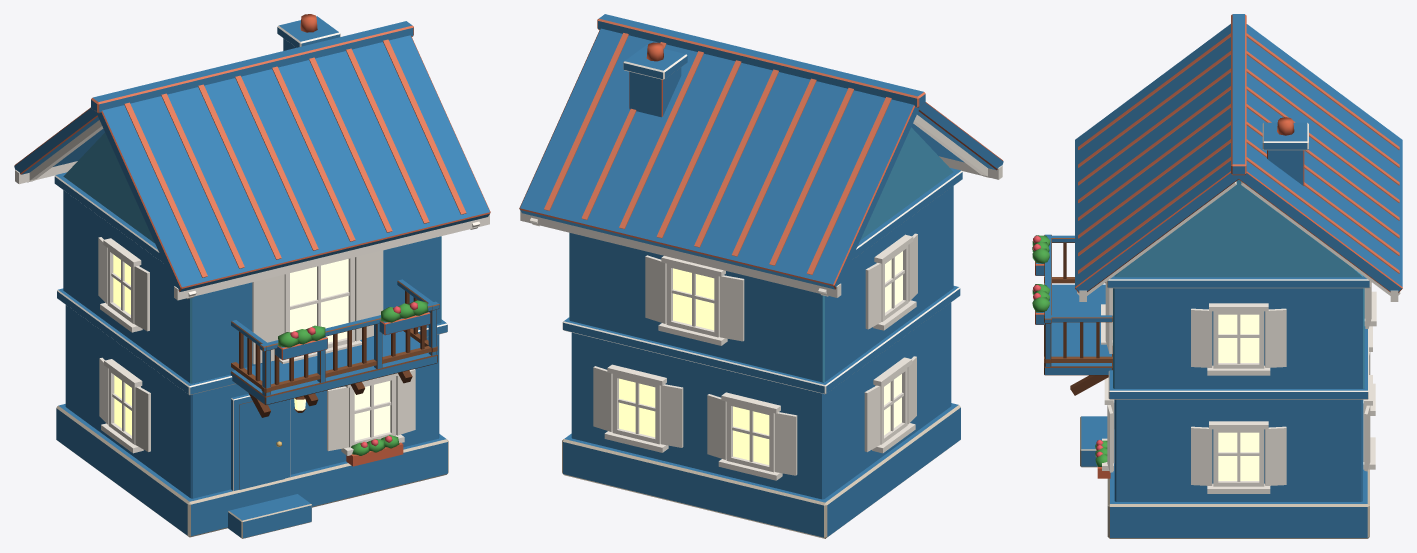
The model's file is house_blue_balcony.glb.
The picture shows the model from 3 angles, left to right: view 1: azimuth 30°, elevation 25°; view 2: azimuth 150°, elevation 25°; view 3: azimuth 270°, elevation 25°; orthographic projection. The views are drawn at different scales.
Parts seen in each view (by area): view 1: house_blue_balcony; view 2: house_blue_balcony; view 3: house_blue_balcony.
Boxes of the visible parts, bbox=[...] form: house_blue_balcony: bbox=[14, 14, 490, 538]; house_blue_balcony: bbox=[519, 14, 1003, 538]; house_blue_balcony: bbox=[1032, 14, 1402, 538].
Bounding box in the file's own units: 6.5 × 7.91 × 6.71.
